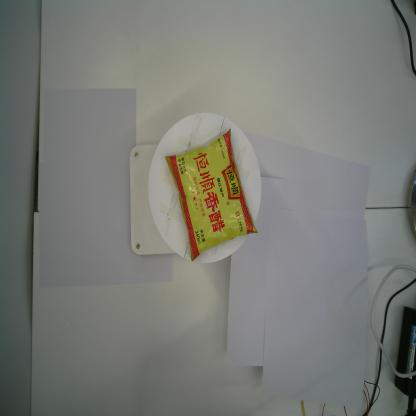Seasoner: (164, 128, 260, 262)
